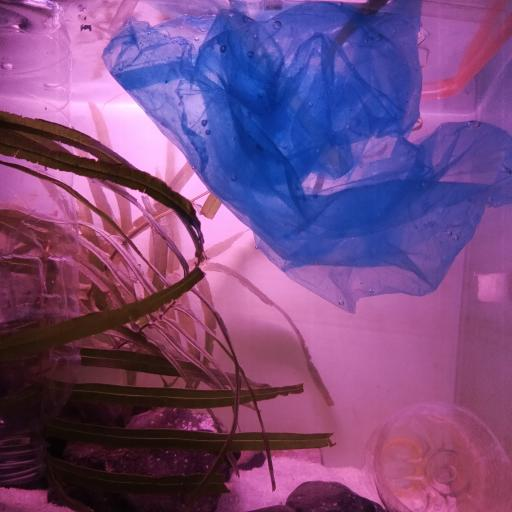plastic_bag: (102, 0, 512, 317)
plastic_bottle: (2, 0, 77, 478), (367, 395, 512, 512)
plastic_straw: (417, 0, 511, 106)
